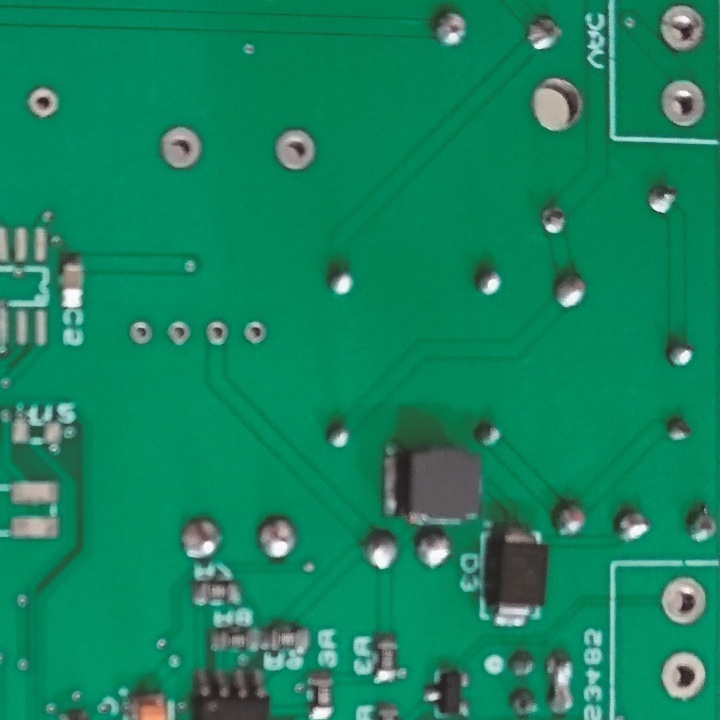F: (657, 648, 709, 701), (658, 75, 706, 130), (658, 575, 708, 626), (659, 3, 704, 58), (157, 124, 206, 172), (274, 128, 320, 175), (24, 84, 60, 119), (164, 319, 193, 346), (203, 317, 230, 346), (242, 320, 270, 346), (127, 318, 153, 345)
